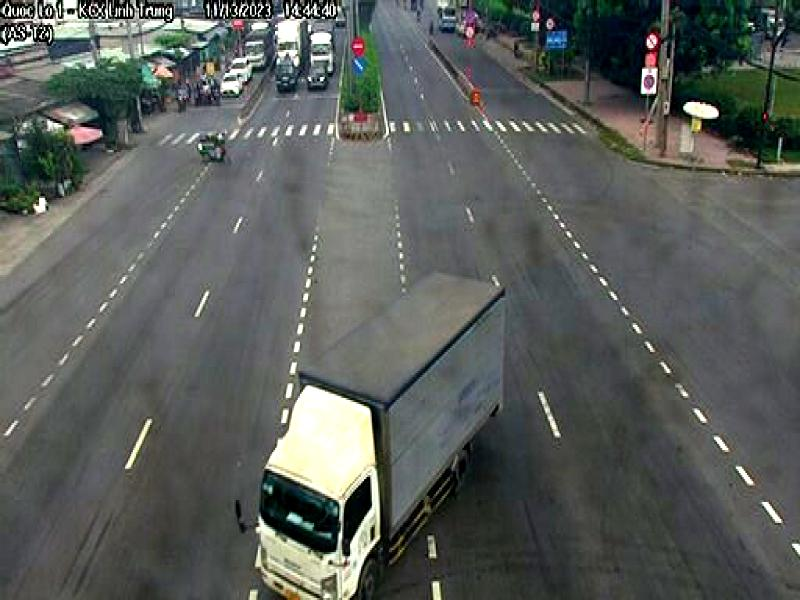truck: (232, 271, 508, 600)
